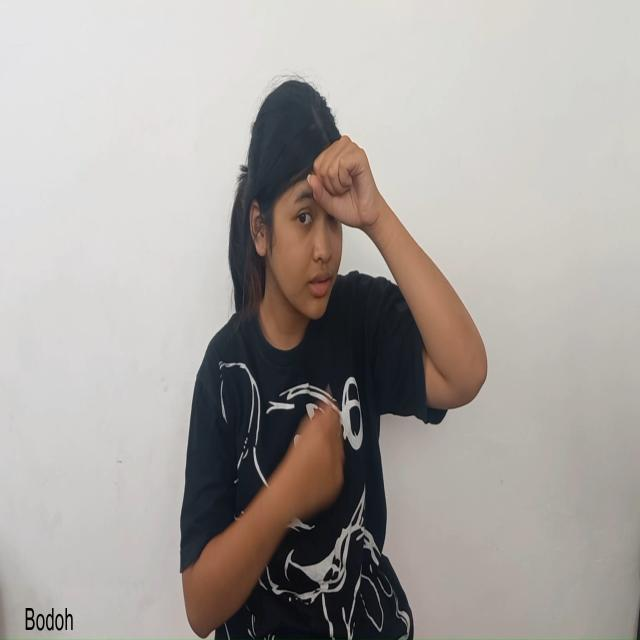Bodoh -BISINDO-: (244, 74, 488, 353)
